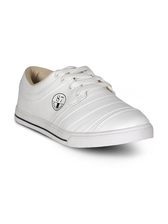shoes: (11, 60, 151, 159)
